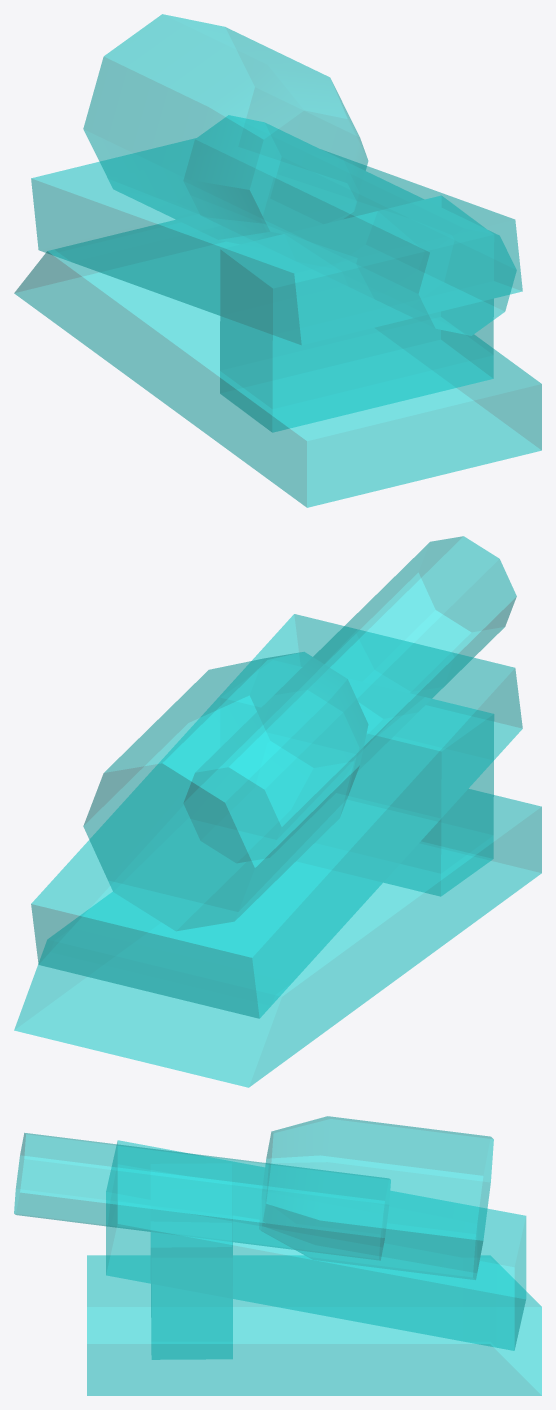
The model's file is SM_Veh_Cannon_01_Collision_01.fbx.
3 renders of one model, top to bottom at view 1: azimuth 30°, elevation 25°; view 2: azimuth 150°, elevation 25°; view 3: azimuth 270°, elevation 25°, orthographic. The views are drawn at different scales.
Parts seen in each view (by area): view 1: SM_Veh_Cannon_01_Collision_01; view 2: SM_Veh_Cannon_01_Collision_01; view 3: SM_Veh_Cannon_01_Collision_01.
Boxes of the visible parts, x1,y1,x2,y2 form: SM_Veh_Cannon_01_Collision_01: [14, 14, 541, 507]; SM_Veh_Cannon_01_Collision_01: [14, 536, 541, 1087]; SM_Veh_Cannon_01_Collision_01: [14, 1116, 541, 1395].
Size of the model in its own units: 130 by 159 by 326.
